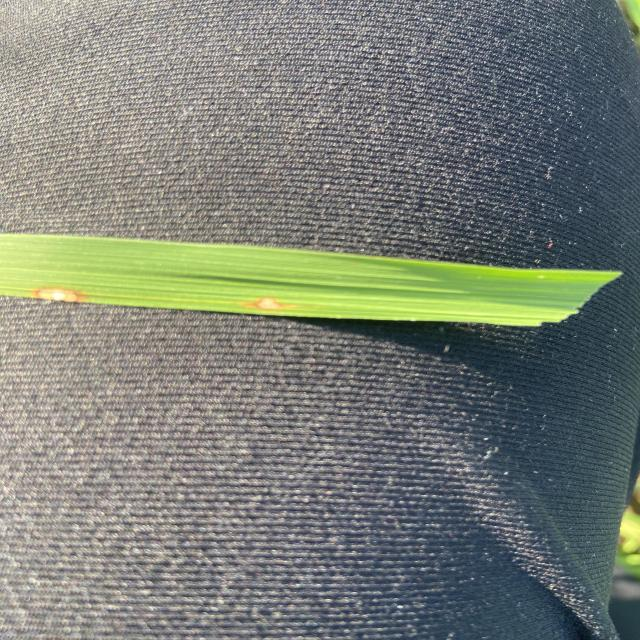Dao on: (33, 287, 83, 302), (256, 298, 281, 310)
